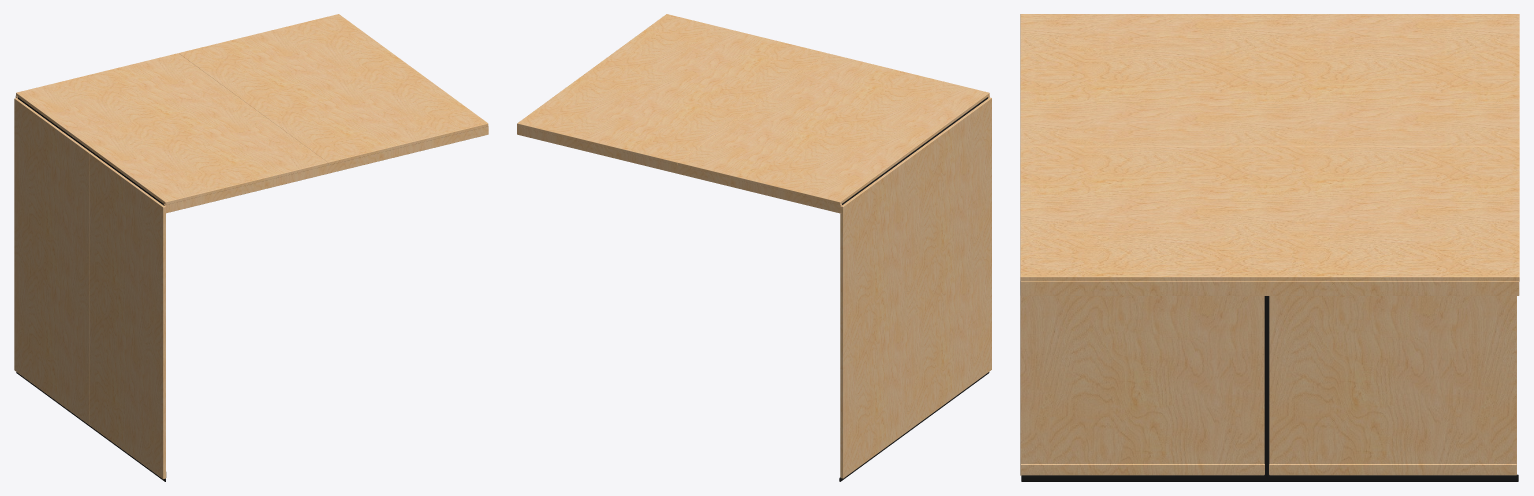
File: rear-top-plywood.glb
3 views of the same model, side by side, from view 1: azimuth 30°, elevation 25°; view 2: azimuth 150°, elevation 25°; view 3: azimuth 270°, elevation 25° (orthographic). The views are drawn at different scales.
Visible parts, largest first — view 1: 10FT Blank_PlywoodWall_RearTop_001; view 2: 10FT Blank_PlywoodWall_RearTop_001; view 3: 10FT Blank_PlywoodWall_RearTop_001.
Part boxes in pixels (x1,y1,x2,y2): 10FT Blank_PlywoodWall_RearTop_001: (14, 14, 488, 481); 10FT Blank_PlywoodWall_RearTop_001: (517, 14, 991, 481); 10FT Blank_PlywoodWall_RearTop_001: (1020, 14, 1519, 481).
Bounding box in the file's own units: 2.82 × 2.32 × 2.24.
Materials: 2 (1 with a texture image).
